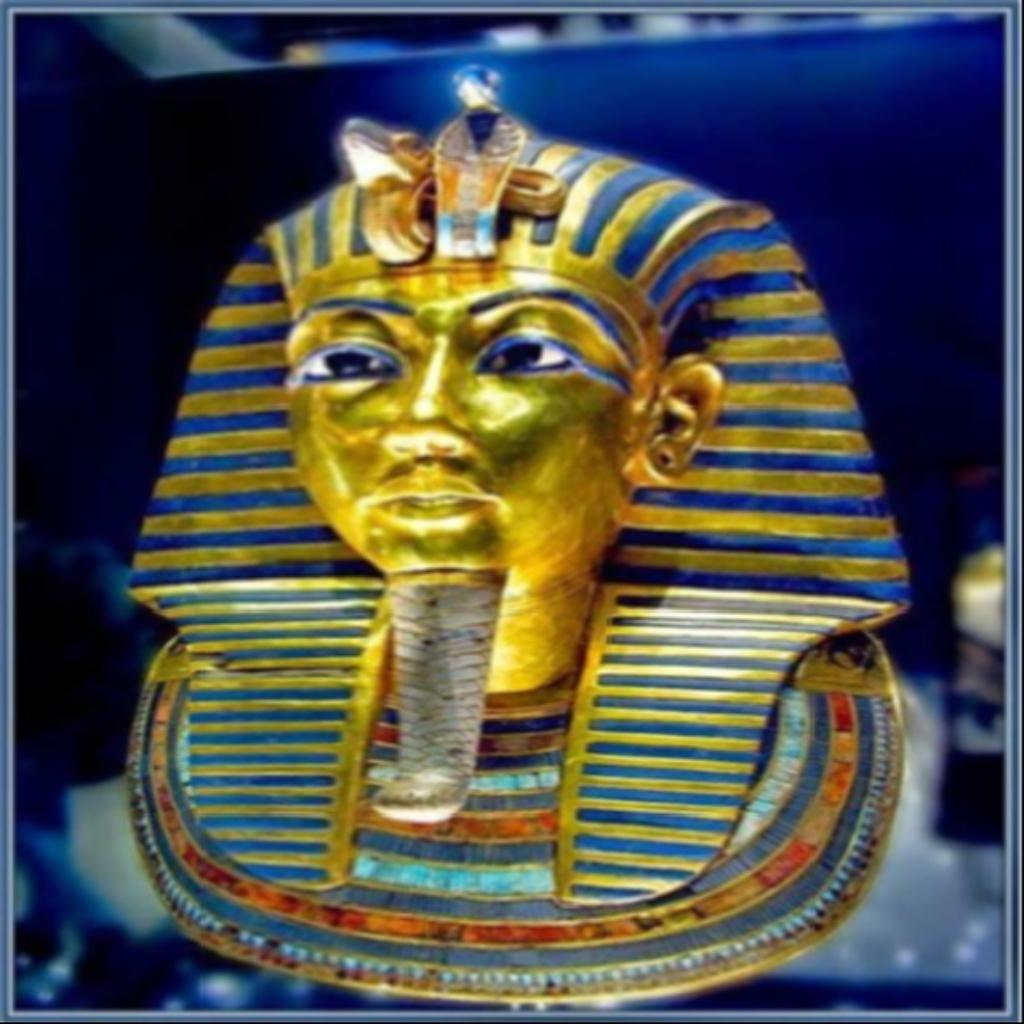Mask of Tutankhamun: (119, 65, 916, 1007)
